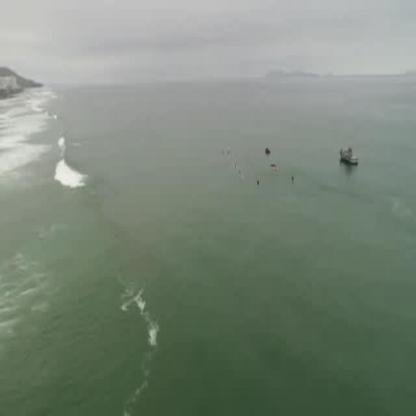Boat: (338, 144, 362, 174)
